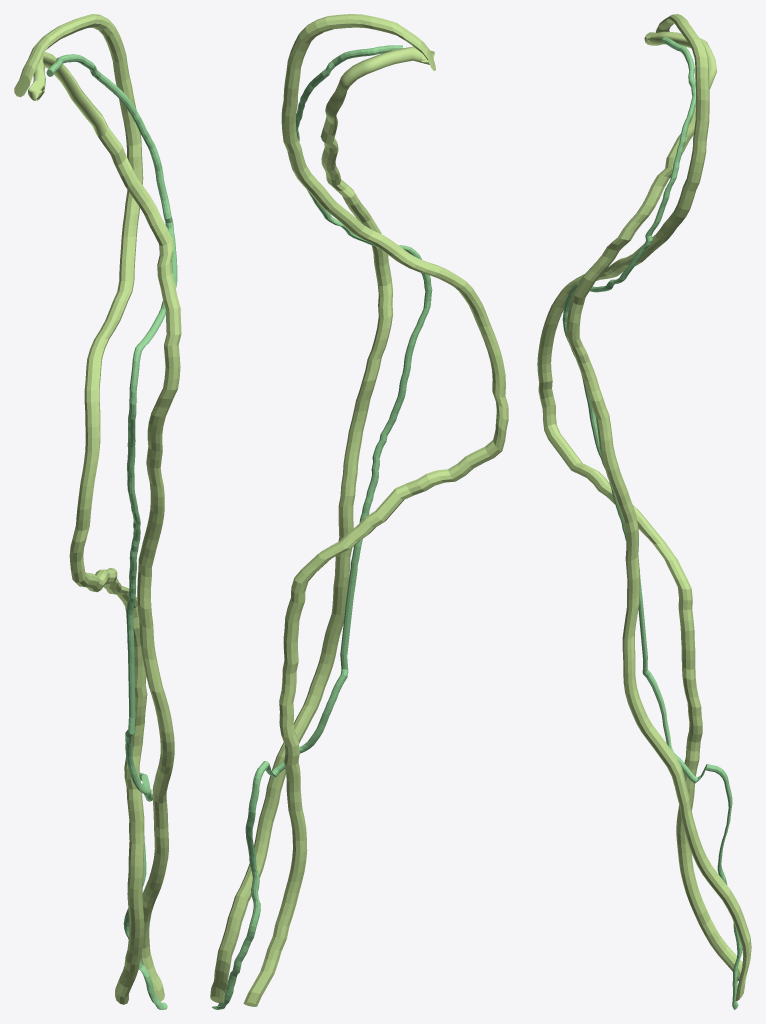
Rendered from VinesB.fbx.
3 renders of one model, left to right at view 1: azimuth 30°, elevation 25°; view 2: azimuth 150°, elevation 25°; view 3: azimuth 270°, elevation 25°, orthographic. The views are drawn at different scales.
Visible parts, largest first — view 1: group_432015845, group_1611296235, group_224160240; view 2: group_432015845, group_1611296235, group_224160240; view 3: group_432015845, group_1611296235, group_224160240.
Part boxes in pixels (bbox=[...]): group_432015845: bbox=[14, 14, 147, 1004]; group_1611296235: bbox=[28, 52, 181, 1001]; group_224160240: bbox=[46, 54, 177, 1009]; group_432015845: bbox=[243, 14, 508, 1006]; group_1611296235: bbox=[210, 46, 434, 1003]; group_224160240: bbox=[212, 45, 432, 1009]; group_432015845: bbox=[537, 14, 742, 980]; group_1611296235: bbox=[566, 31, 751, 1000]; group_224160240: bbox=[562, 37, 742, 1009].
Size of the model in its own units: 0.3022 by 1.49 by 0.3105.
